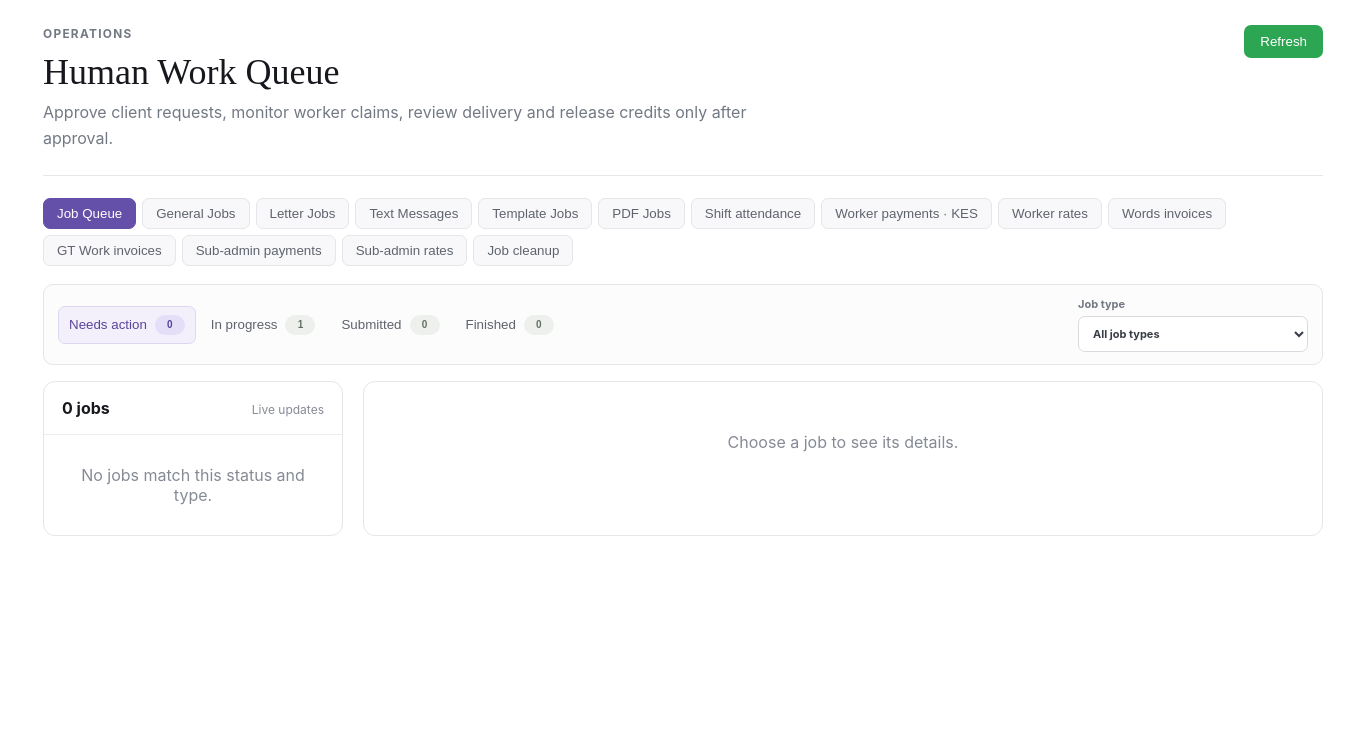
admin cannot take over a split job after any part is claimed
Click the tab "In progress 1" at (263, 325), box [200,306,326,344]
(page scrolled)
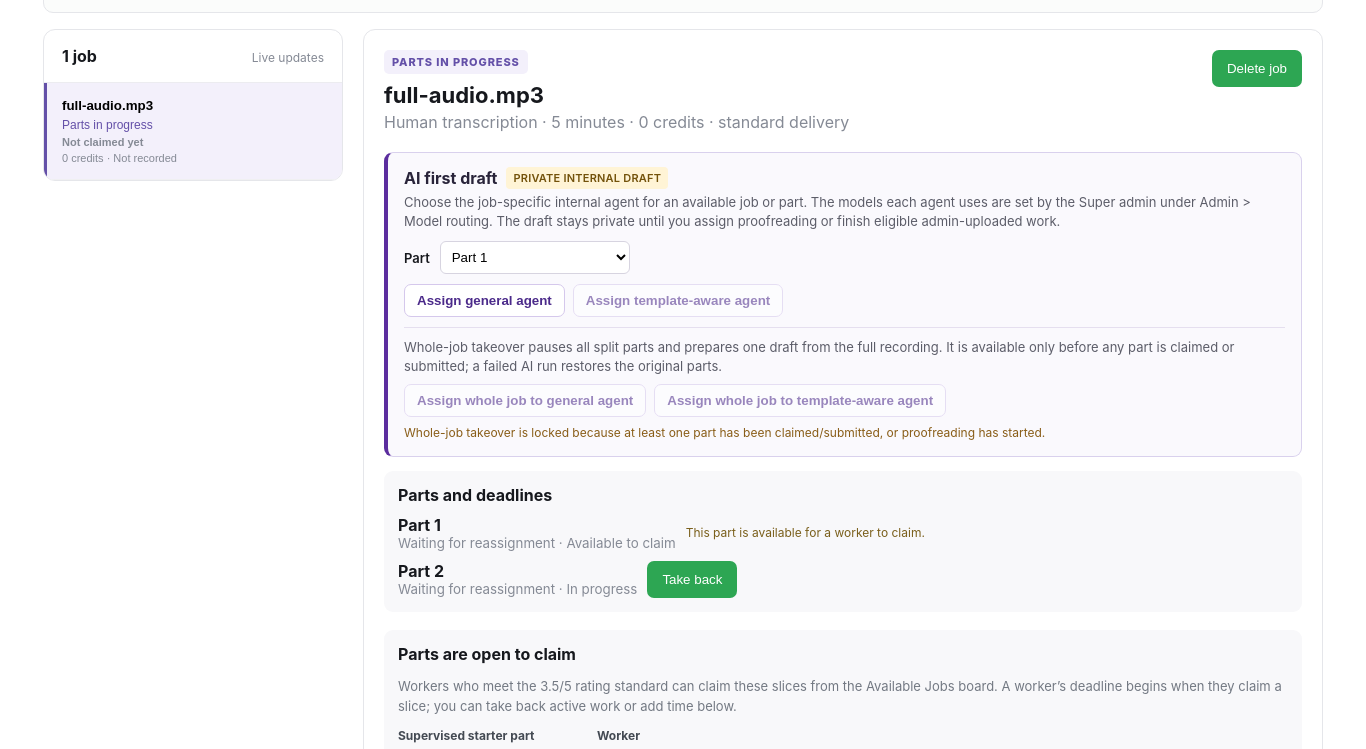
Result: the button "Assign whole job to general agent" is disabled at [404,384,646,417]
